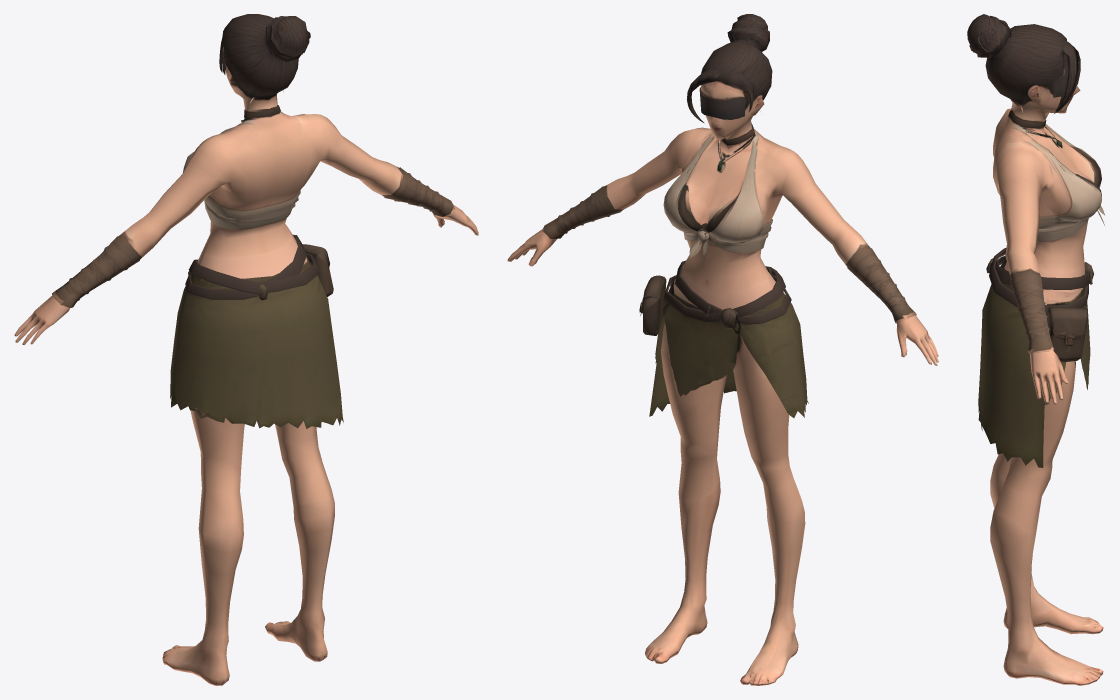
Rendered from alisa.glb.
3 views of the same model, side by side, from view 1: azimuth 30°, elevation 25°; view 2: azimuth 150°, elevation 25°; view 3: azimuth 270°, elevation 25° (orthographic). The views are drawn at different scales.
Parts seen in each view (by area): view 1: body; view 2: body; view 3: body.
Part boxes in pixels (x1,y1,x2,y2): body: [14, 14, 478, 685]; body: [507, 14, 938, 685]; body: [967, 14, 1104, 685].
Bounding box in the file's own units: 1.13 × 1.56 × 0.3056.
1 material, 1 textured.
